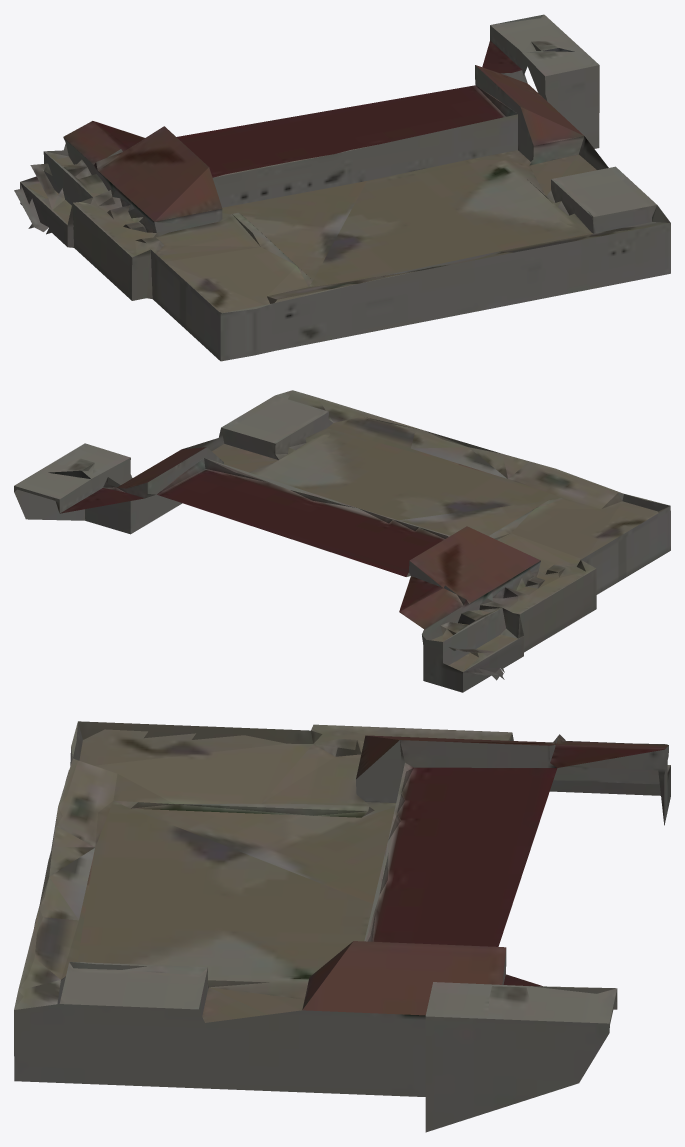
Rendered from t_2_1.coat.glb.
3 views of the same model, one above another, from view 1: azimuth 30°, elevation 25°; view 2: azimuth 150°, elevation 25°; view 3: azimuth 270°, elevation 25° (orthographic). The views are drawn at different scales.
Parts seen in each view (by area): view 1: far; view 2: far; view 3: far.
Boxes of the visible parts, box(x1,y1,x2,y2) form: far: box(14, 14, 670, 361); far: box(14, 390, 670, 692); far: box(14, 721, 670, 1132).
Size of the model in its own units: 96.69 by 16.03 by 75.37.
1 material, 1 textured.
